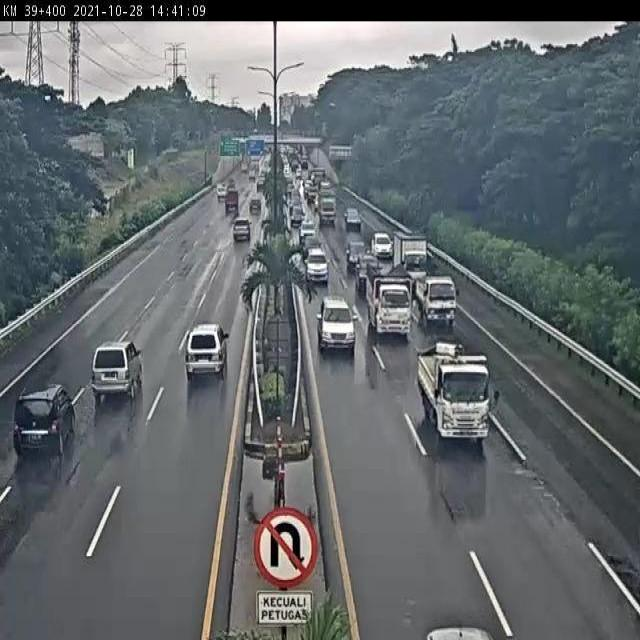car: (316, 296, 357, 352), (305, 248, 329, 284), (357, 254, 383, 286)
mid truck: (417, 342, 491, 442), (13, 382, 76, 462), (364, 271, 413, 340), (90, 342, 143, 402), (184, 324, 228, 379), (417, 272, 457, 325), (393, 233, 429, 287)
